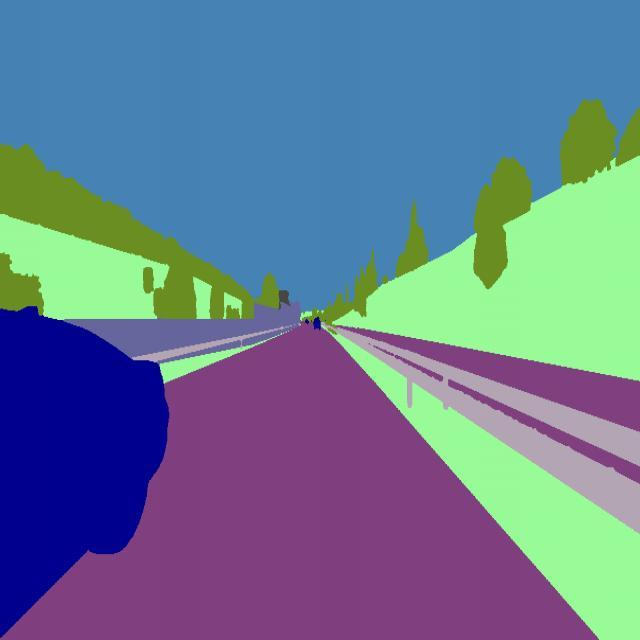safe: (311, 313, 324, 332)
unsafe: (0, 304, 171, 640)
